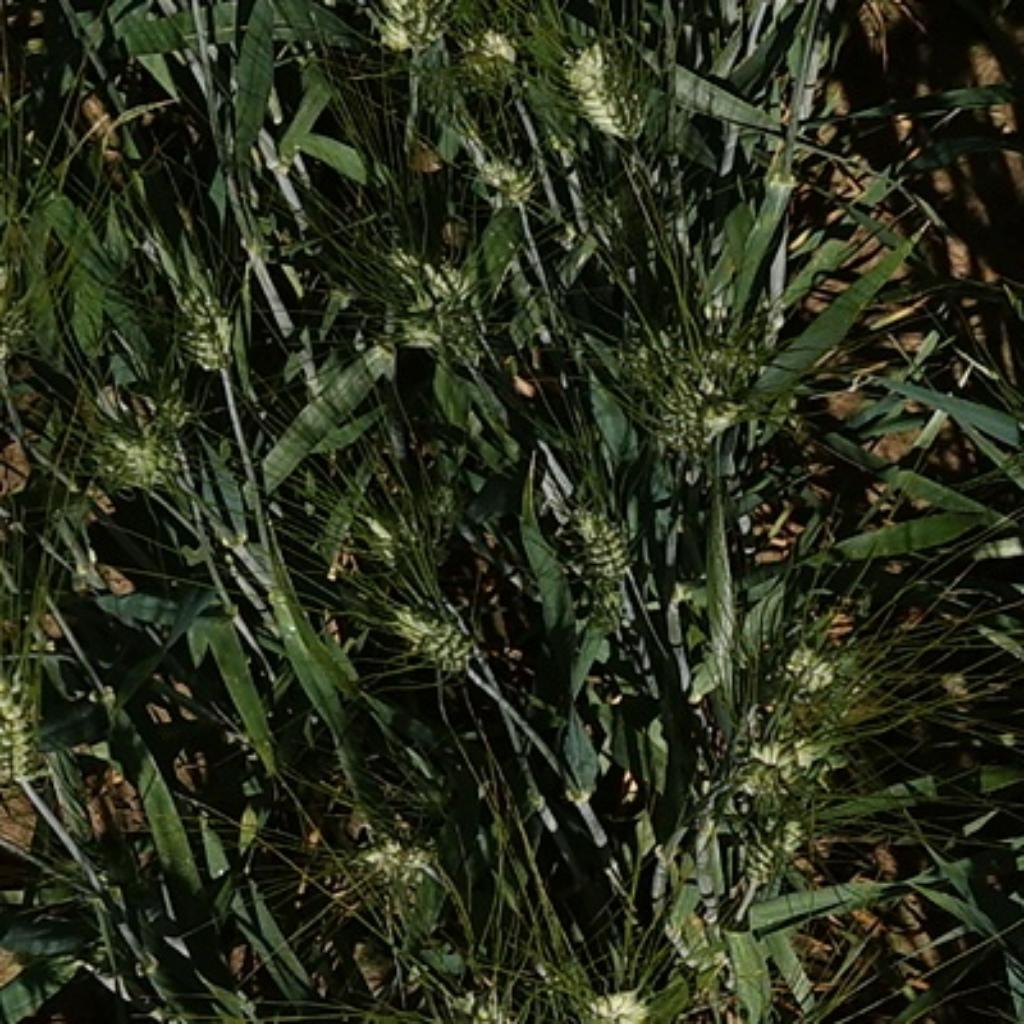0-0: (627, 360, 765, 473), (156, 240, 256, 381), (723, 722, 866, 806), (547, 486, 637, 609), (386, 250, 475, 366), (330, 806, 448, 893), (97, 409, 197, 506), (381, 578, 483, 673), (561, 48, 645, 148), (729, 819, 852, 878), (340, 494, 437, 568), (775, 629, 865, 706), (440, 17, 519, 97), (417, 970, 529, 1024), (2, 680, 48, 793), (373, 2, 468, 53), (465, 138, 537, 204), (570, 970, 657, 1024), (0, 260, 38, 364), (447, 263, 487, 335)
